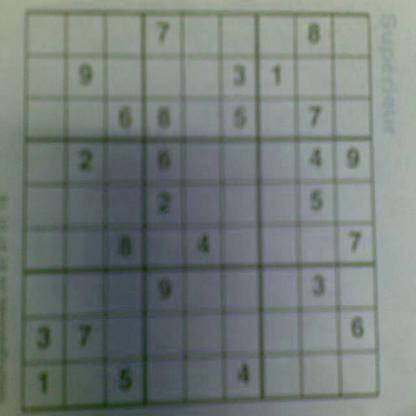sudoku: (18, 3, 382, 414)
